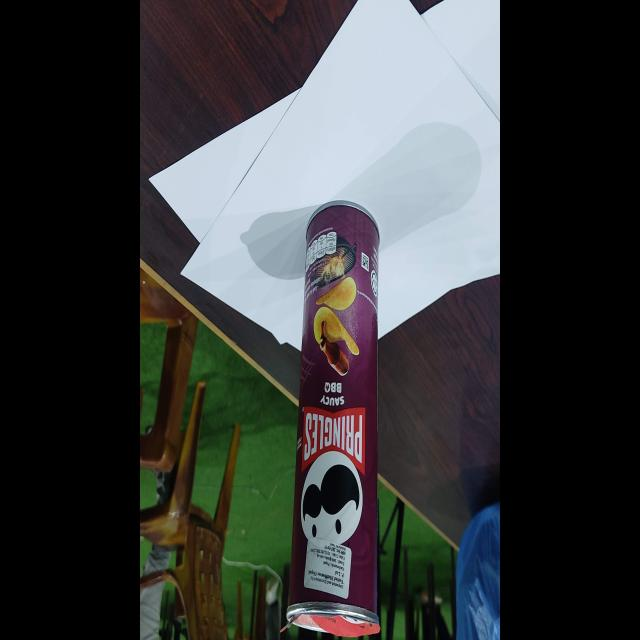Chair: (140, 261, 198, 474)
Pringles: (282, 199, 380, 636)
